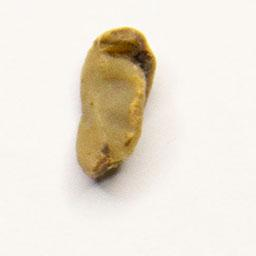defect: (67, 21, 162, 187)
